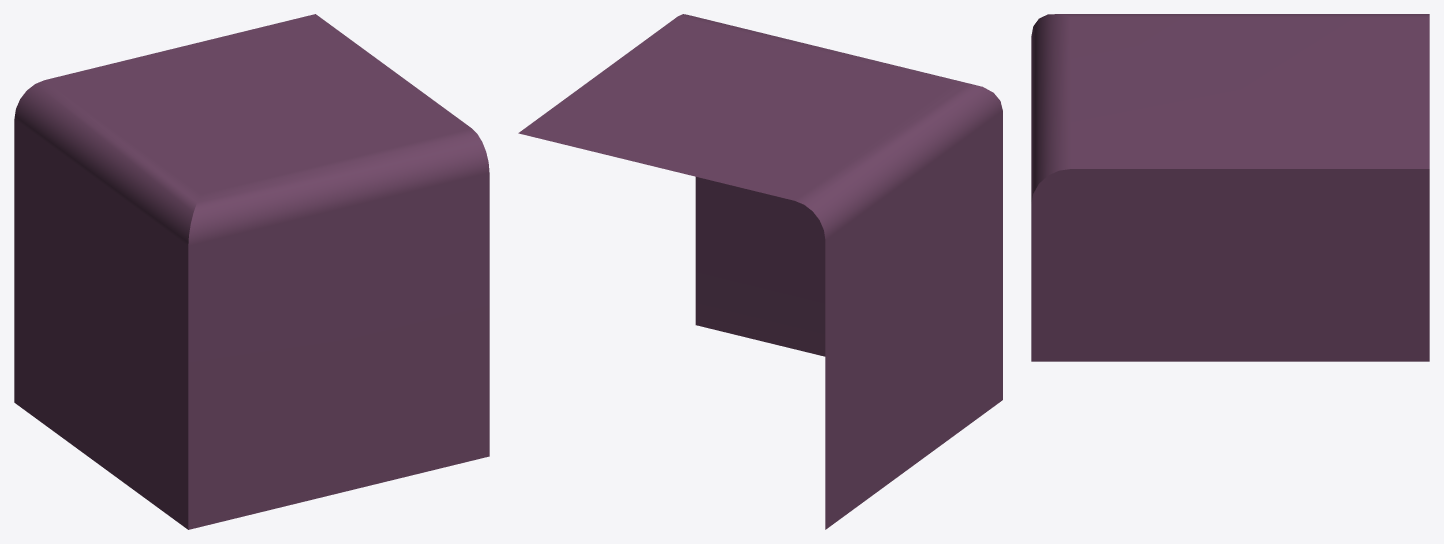
The model's file is Mesh_bog_Small_end_02.fbx.
The picture shows the model from 3 angles, left to right: view 1: azimuth 30°, elevation 25°; view 2: azimuth 150°, elevation 25°; view 3: azimuth 270°, elevation 25°; orthographic projection. The views are drawn at different scales.
Parts seen in each view (by area): view 1: Mesh_bog_small_end_02; view 2: Mesh_bog_small_end_02; view 3: Mesh_bog_small_end_02.
Boxes of the visible parts, x1=… form: Mesh_bog_small_end_02: x1=14, y1=14, x2=489, y2=529; Mesh_bog_small_end_02: x1=518, y1=14, x2=1002, y2=529; Mesh_bog_small_end_02: x1=1031, y1=14, x2=1429, y2=361.
Bounding box in the file's own units: 4 × 4 × 4.
